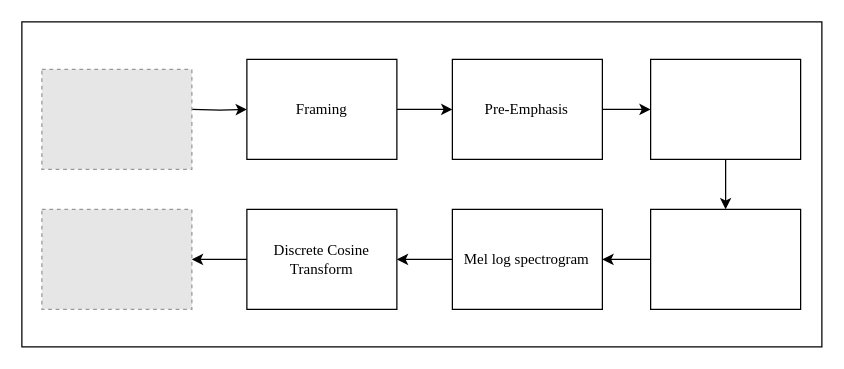
Some shapes in this 844 by 369 pixel diagram are drawn without their labels. Grey dashed boxes stand in for pictures. Each missing label, with the box of its shape:
Fast Fourier Transform: (649, 208, 801, 309)
Hamming Window: (649, 58, 801, 159)
